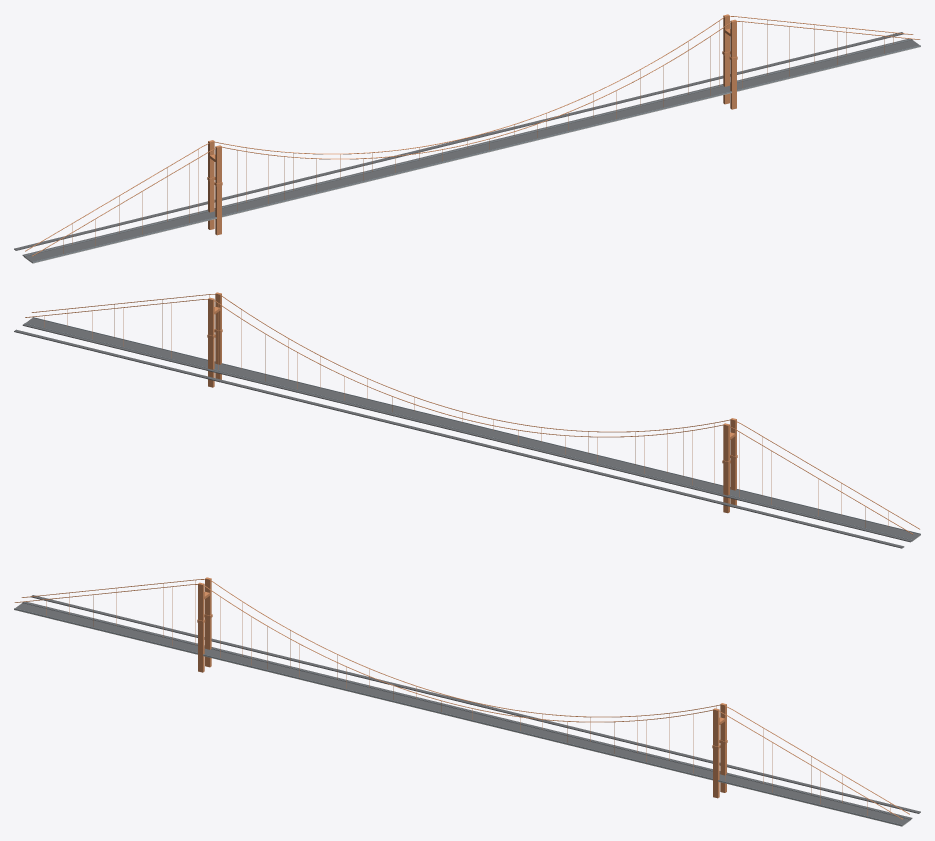
3 views of the same model, one above another, from view 1: azimuth 30°, elevation 25°; view 2: azimuth 150°, elevation 25°; view 3: azimuth 330°, elevation 25° (orthographic).
Visible parts, largest first — view 1: worldgen; view 2: worldgen; view 3: worldgen.
Part boxes in pixels (x1,y1,x2,y2): worldgen: (14,14,920,263); worldgen: (14,292,920,548); worldgen: (14,577,920,826).
Size of the model in its own units: 1800 by 170 by 67.69.
